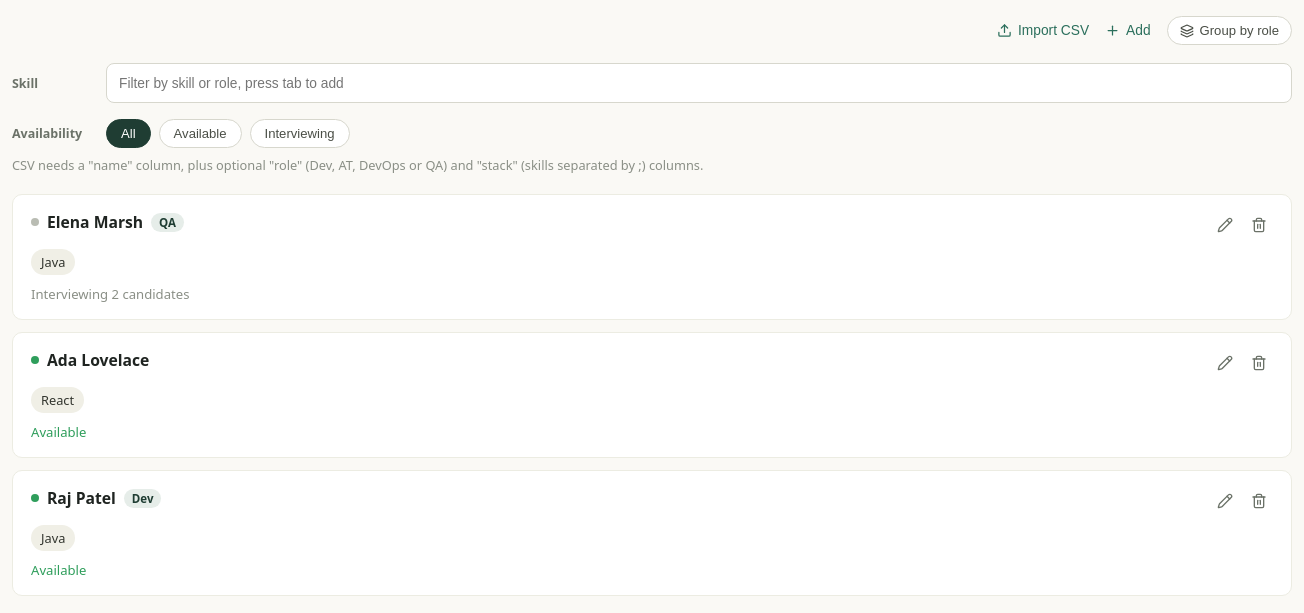
Test: InterviewersTab grouping › collapses every group by default, showing only headings and counts
The width and height of the screenshot is (1304, 613).
Click the button "Group by role".
click(1229, 30)  # box [1167, 16, 1292, 45]
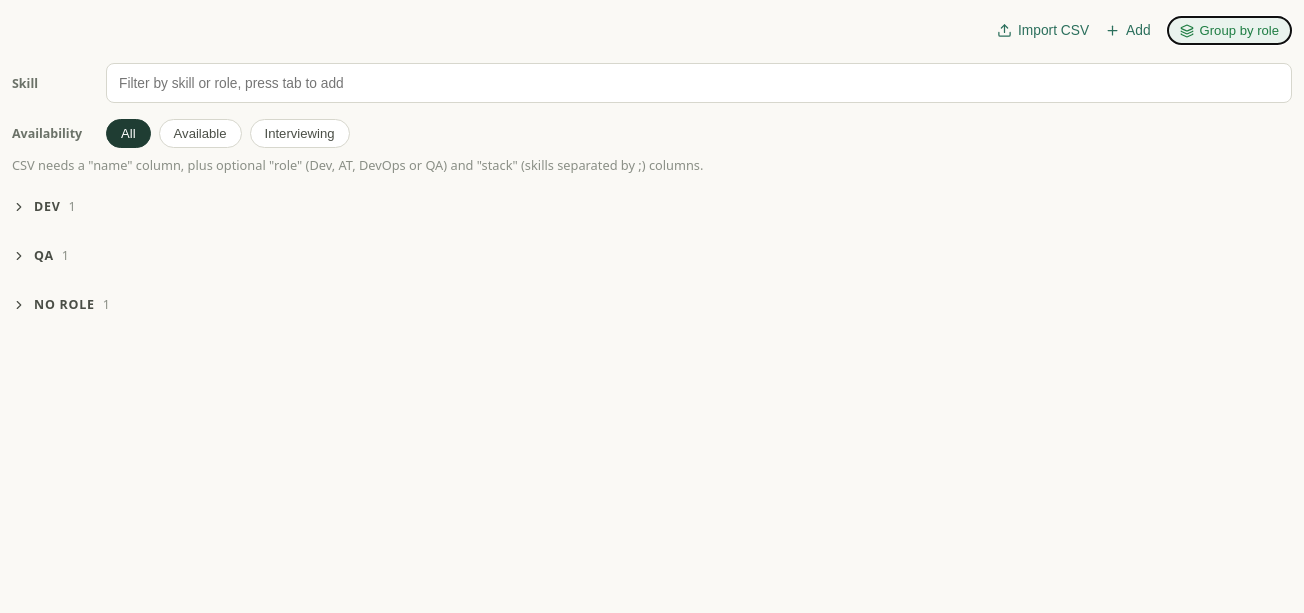
Now the button "QA 1" is shown, box [12, 243, 1292, 268]
Now the heading "Elena Marsh" is gone
